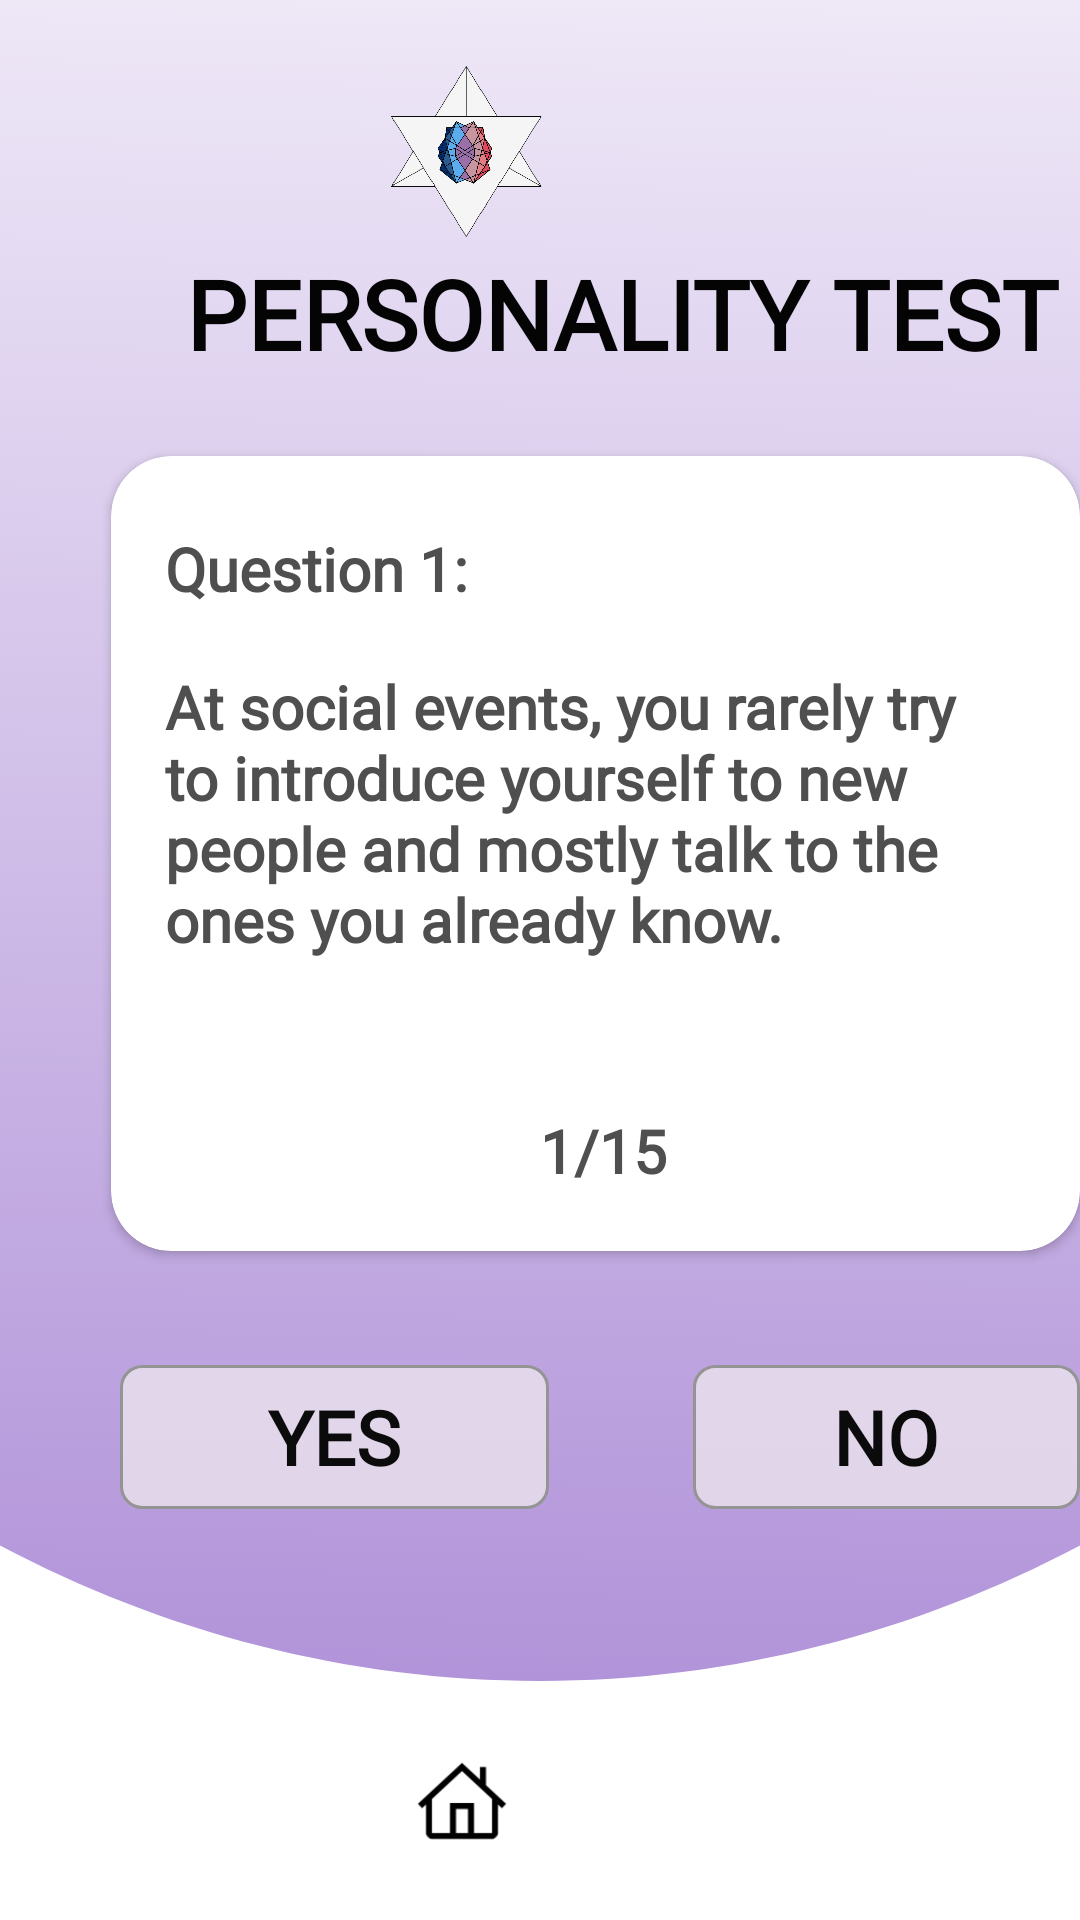

Icon click points for this 1080w x 1920h phone screenshot, format (x,y):
homeicon: (462,1801)
